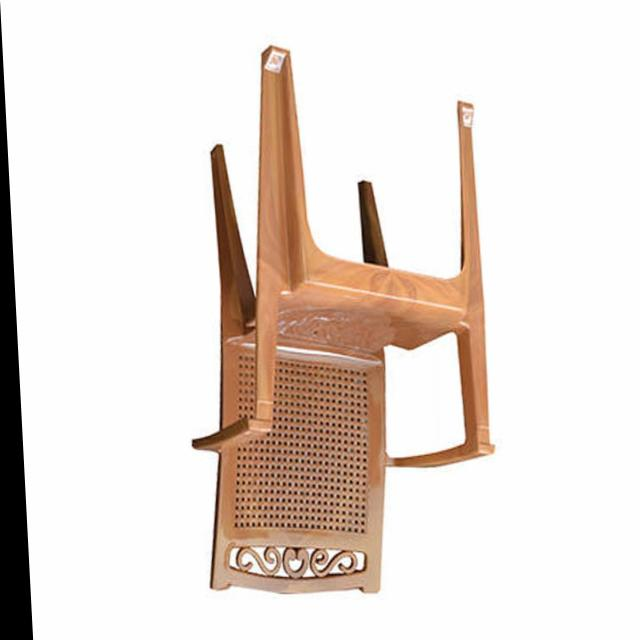Chair: (172, 43, 495, 596)
